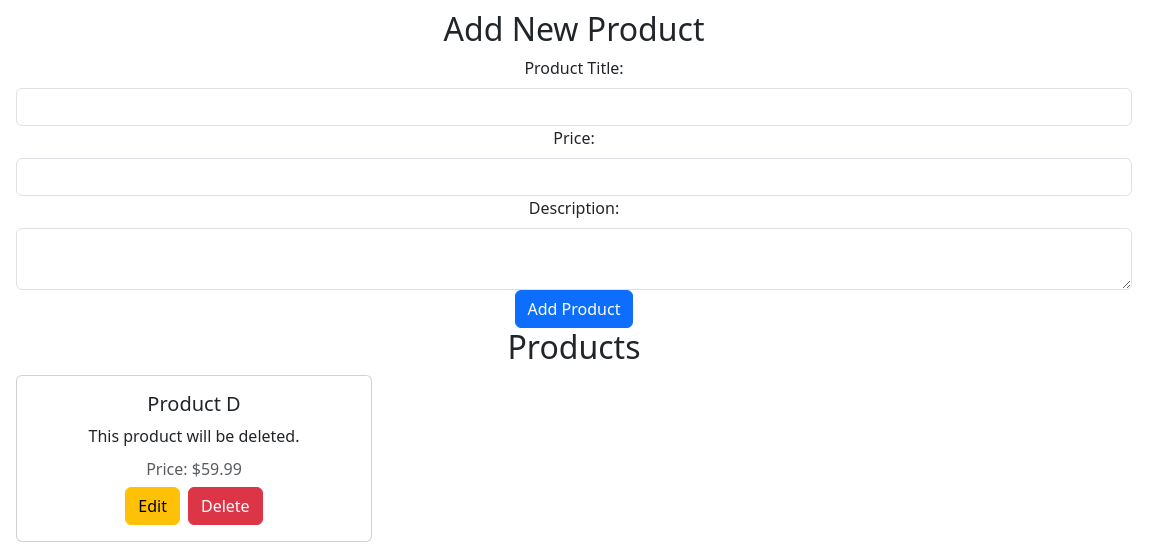
CRUDProduct Component › deletes a product
Expected: the text "Product D" is shown, x1=147 y1=390 x2=241 y2=417
Click the button "Delete". click: [225, 506]
box: x1=188 y1=487 x2=263 y2=525
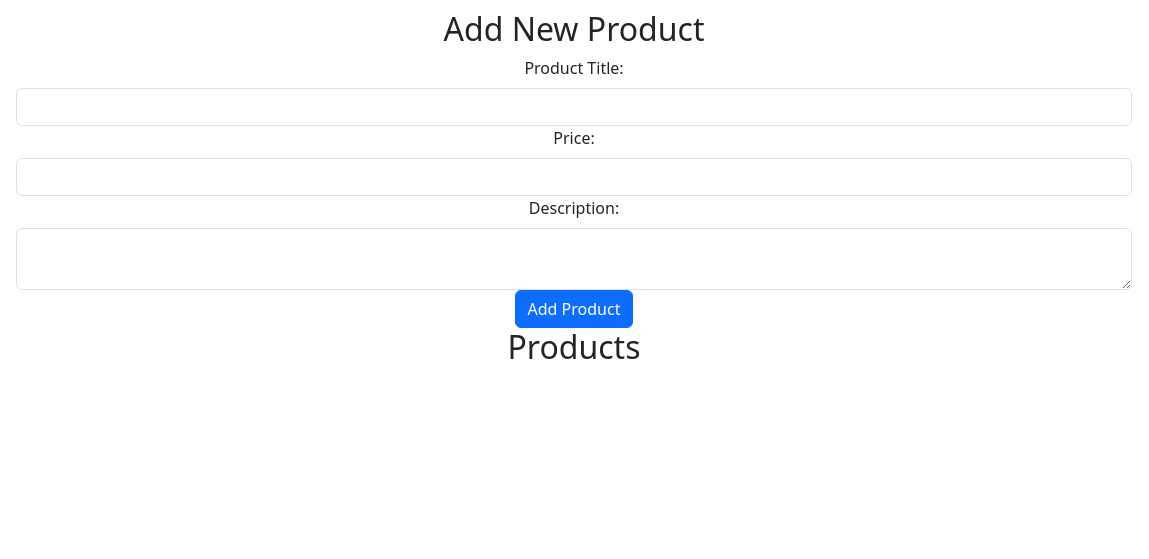
Expected: the text "Product D" is gone
